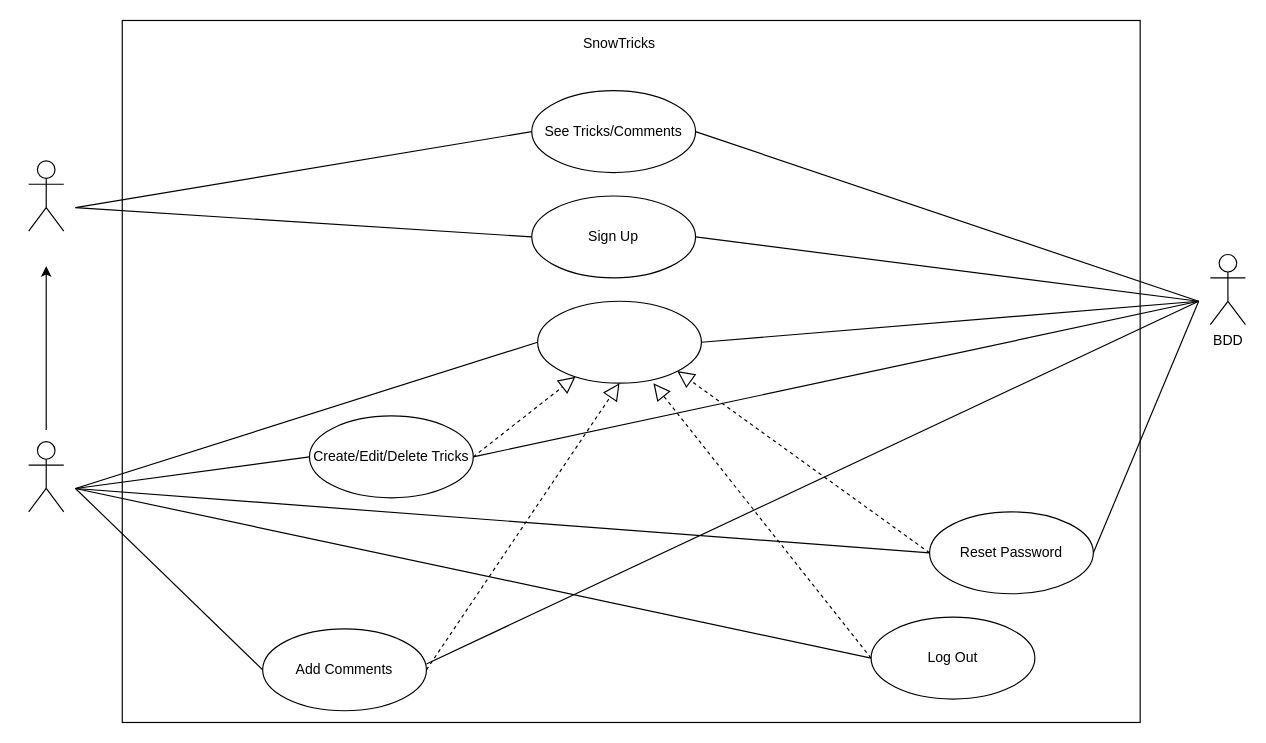
Image size: 1266x743. Some labels were removed from this diagram. Here are the shapes that lost their labels. From the top down, the centre of each, then its label:
At point 45,195: "Visitor".
At point 618,341: "Log In".
At point 45,476: "Member".
